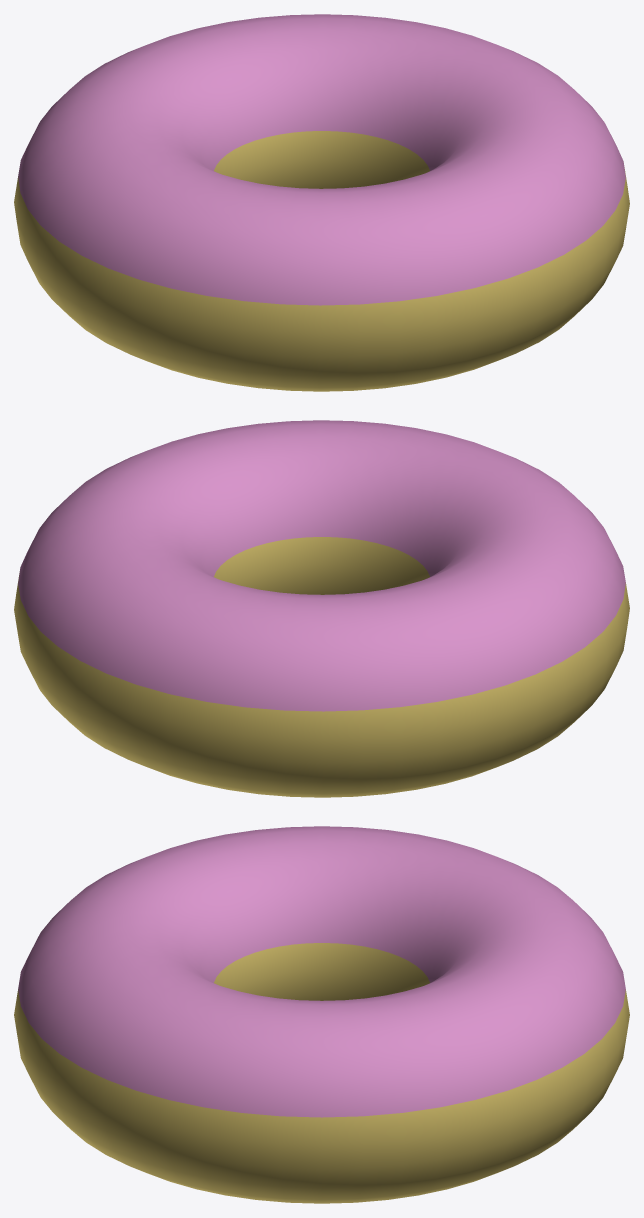
The model's file is Donut_Strawberry.fbx.
3 renders of one model, top to bottom at view 1: azimuth 30°, elevation 25°; view 2: azimuth 150°, elevation 25°; view 3: azimuth 270°, elevation 25°, orthographic.
Visible parts, largest first — view 1: BezierCircle; view 2: BezierCircle; view 3: BezierCircle.
Boxes of the visible parts, x1,y1,x2,y2 form: BezierCircle: (14, 14, 629, 391); BezierCircle: (14, 420, 629, 797); BezierCircle: (14, 826, 629, 1203).
Bounding box in the file's own units: 2.98 × 0.972 × 2.98.
